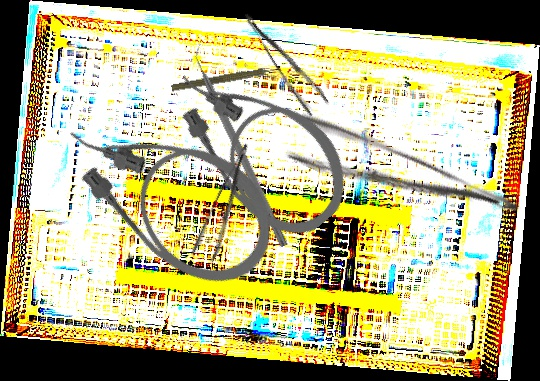Cannula: (45, 72, 298, 309), (153, 30, 369, 256)
Chopper: (185, 37, 300, 248)
Dressing Forceps: (284, 108, 524, 251), (241, 0, 331, 119), (188, 140, 268, 265)
Handpiece: (170, 63, 285, 96)
